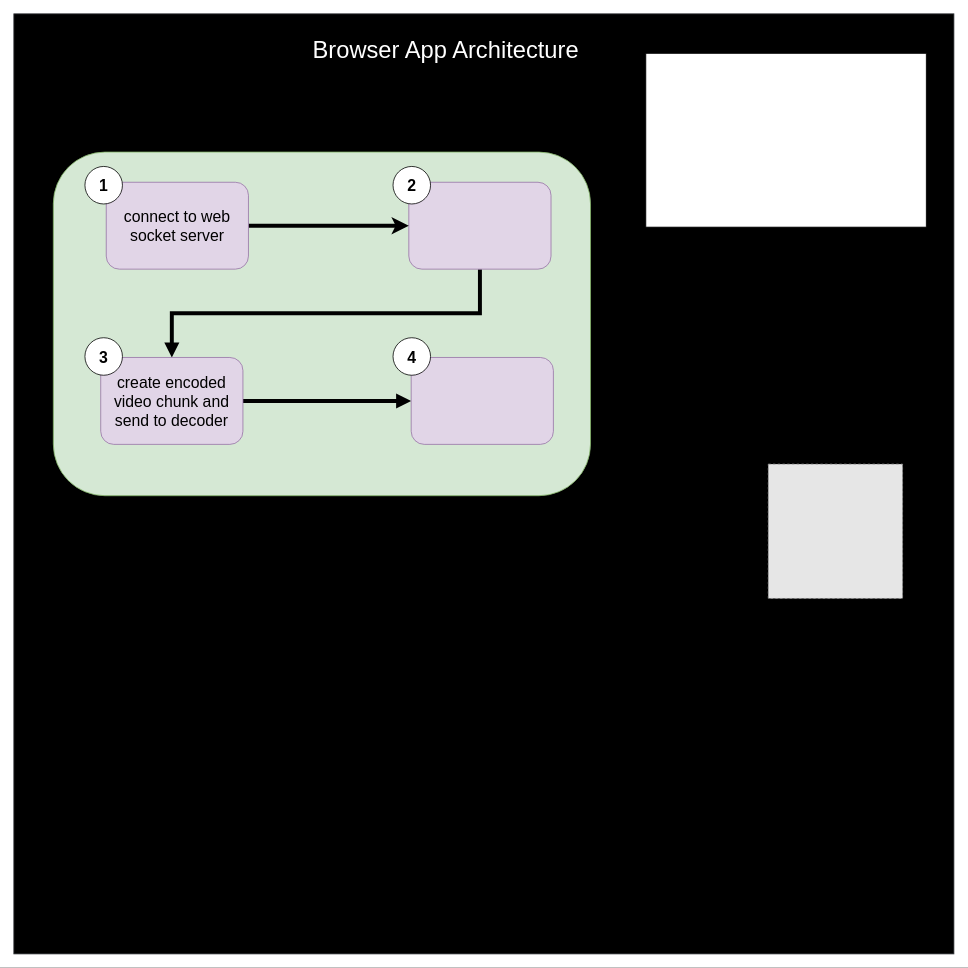
The diagram is 968 pixels wide and 968 high, and some of its shapes have lost their labels. Grey dashed boxes stand in for pictures. Here are the shapes that lost their labels. From the top down, the box of each, then its label:
(645, 53, 926, 227): * React App * WebCodecs API to decode AV1 video
(408, 181, 551, 269): useEffect event triggered with lastJsonObject
(410, 357, 553, 444): send decoded frames to the canvas
